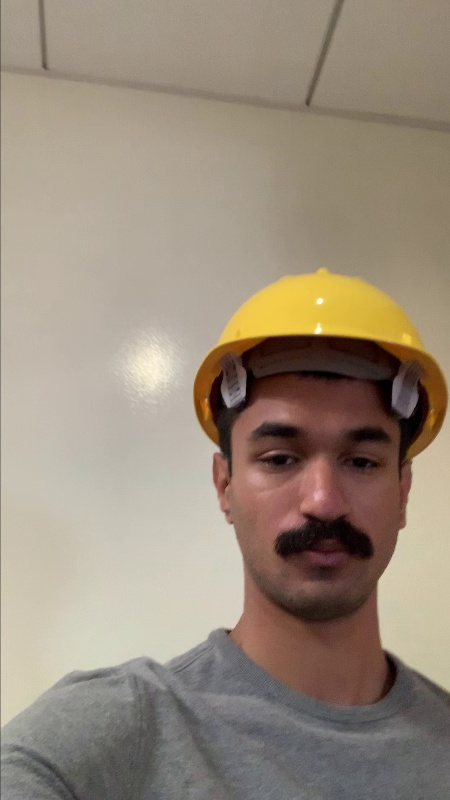helmet: (189, 270, 435, 358)
